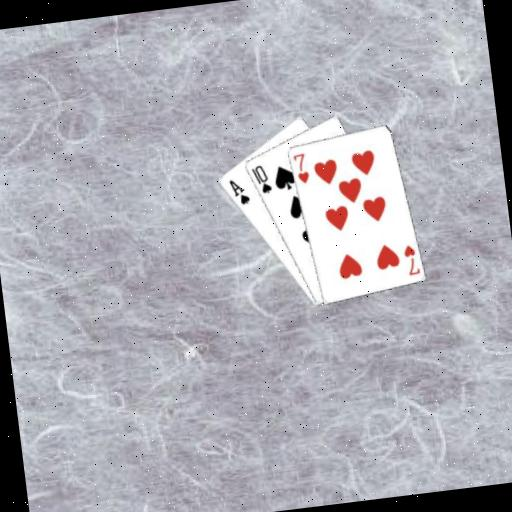10S: (248, 161, 274, 197)
7H: (400, 240, 422, 277), (290, 150, 311, 187)
AS: (225, 175, 252, 208)
